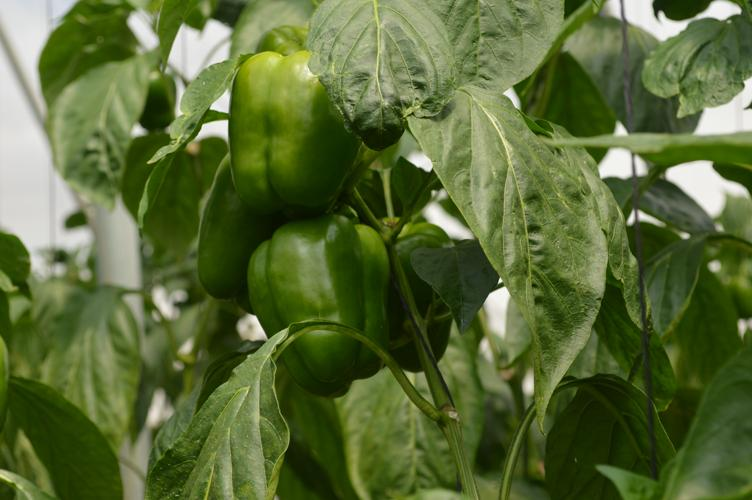BellPepper: (248, 217, 397, 388), (221, 52, 360, 208), (377, 219, 458, 363), (188, 151, 267, 289)
